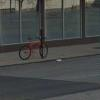Bicycle: (17, 30, 67, 61)
